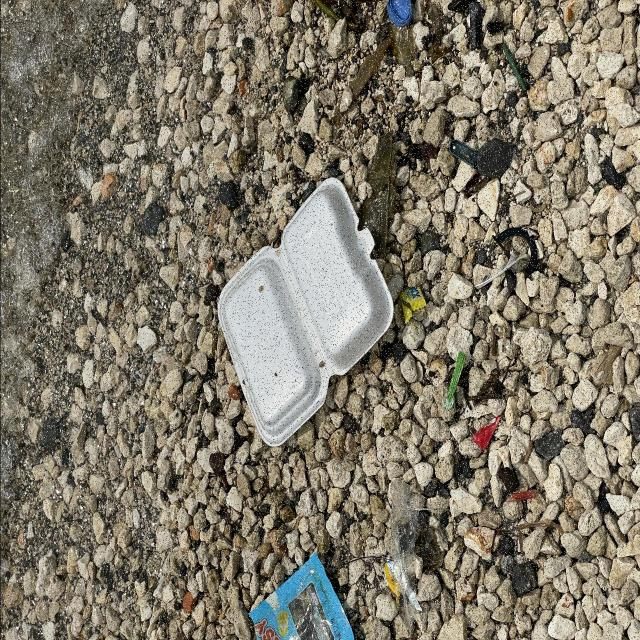plastic_waste: (249, 557, 359, 640), (387, 1, 414, 27)
styrofoam_waste: (216, 178, 394, 450)
